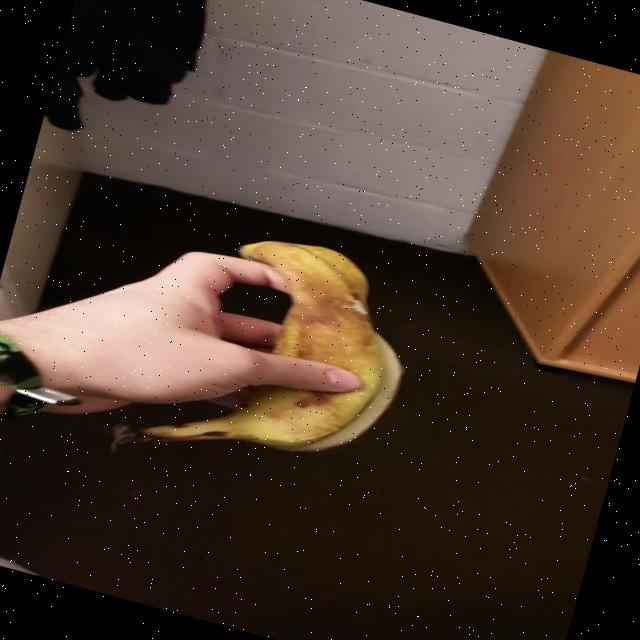banana-peel: (103, 202, 430, 519)
